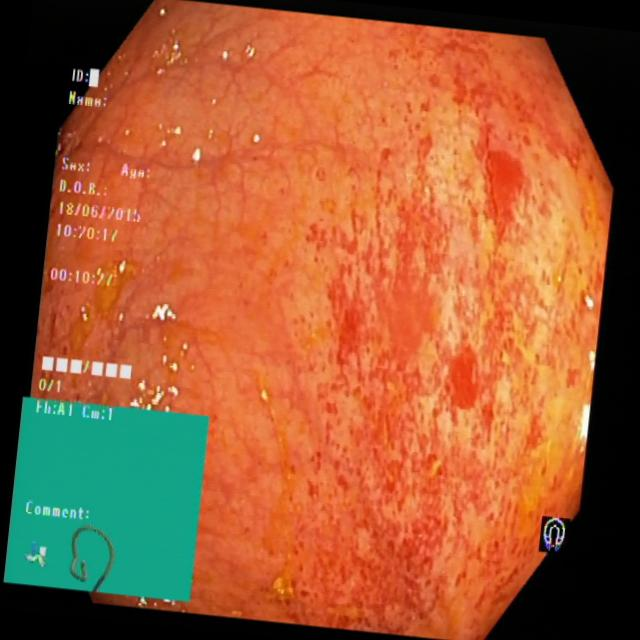ulcerative-colities: (268, 17, 613, 640), (31, 219, 138, 401)
